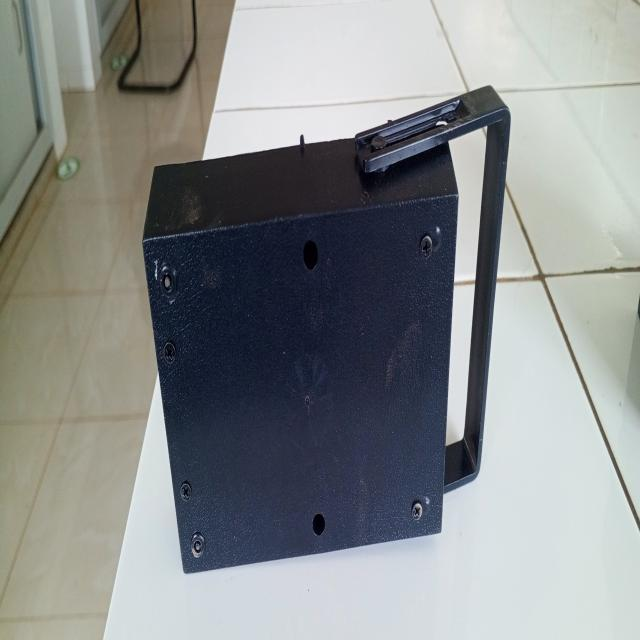Set of Resistances: (138, 62, 518, 593)
